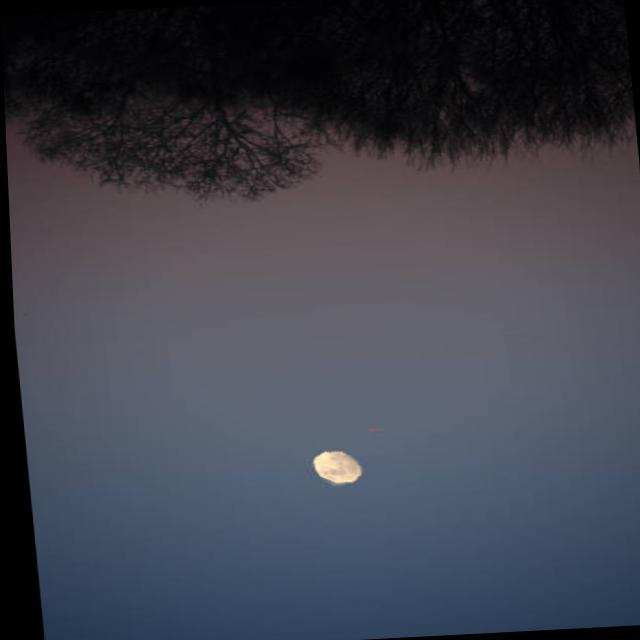moon: (307, 448, 365, 488)
